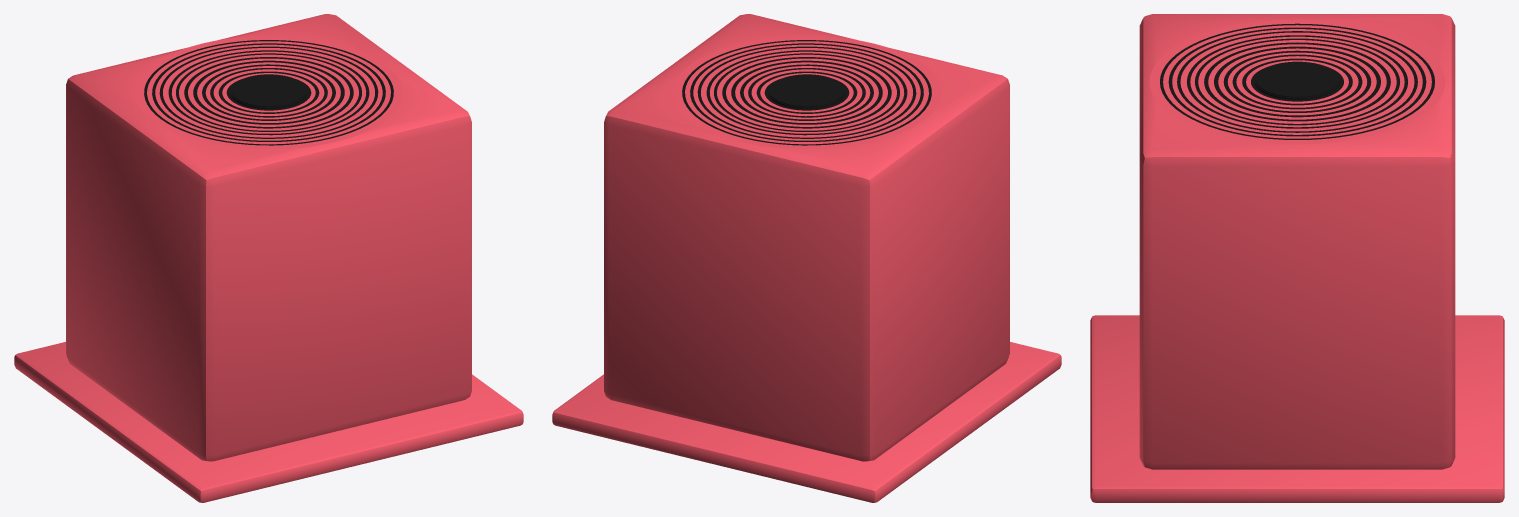
3 views of the same model, side by side, from view 1: azimuth 30°, elevation 25°; view 2: azimuth 150°, elevation 25°; view 3: azimuth 270°, elevation 25° (orthographic). The views are drawn at different scales.
Visible parts, largest first — view 1: AC.001; view 2: AC.001; view 3: AC.001.
Boxes of the visible parts, box(x1,y1,x2,y2) form: AC.001: box(14, 14, 523, 502); AC.001: box(552, 14, 1061, 502); AC.001: box(1090, 14, 1504, 502).
Bounding box in the file's own units: 1.33 × 1.2 × 1.33.
